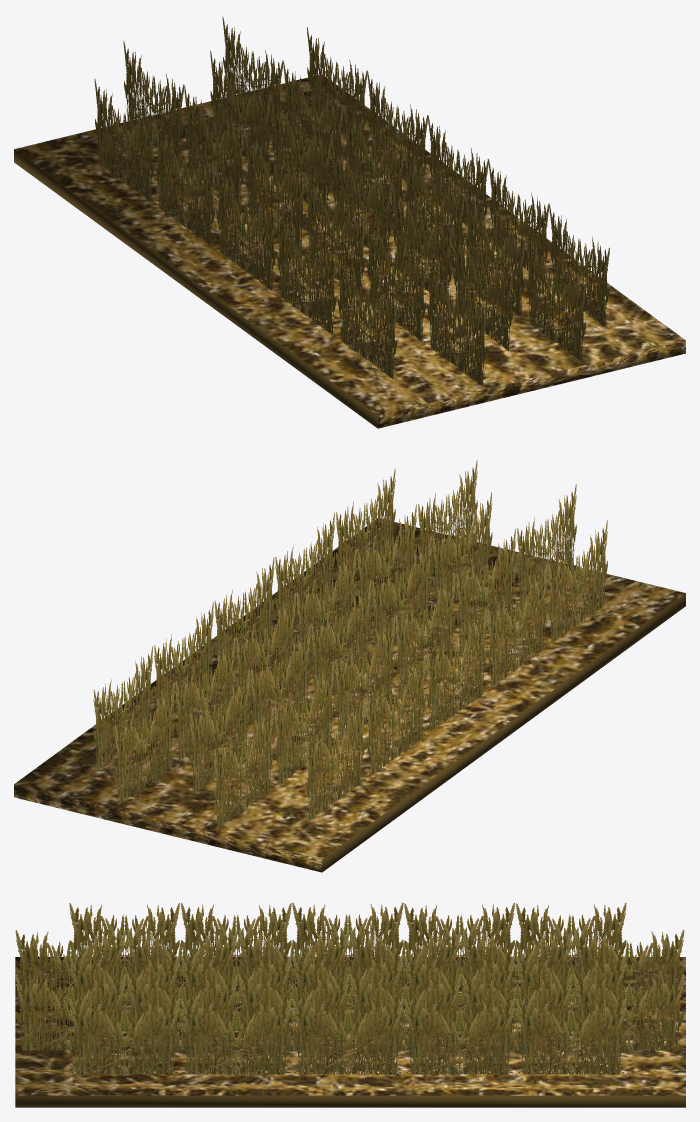
Rendered from cf_ta_field.obj.
3 views of the same model, one above another, from view 1: azimuth 30°, elevation 25°; view 2: azimuth 150°, elevation 25°; view 3: azimuth 270°, elevation 25° (orthographic). The views are drawn at different scales.
Visible parts, largest first — view 1: field_Cube.000; view 2: field_Cube.000; view 3: field_Cube.000.
Boxes of the visible parts, box(x1,y1,x2,y2) form: field_Cube.000: box(14, 16, 685, 428); field_Cube.000: box(14, 460, 685, 872); field_Cube.000: box(15, 902, 685, 1107).
Size of the model in its own units: 9.85 by 2.97 by 20.19.
